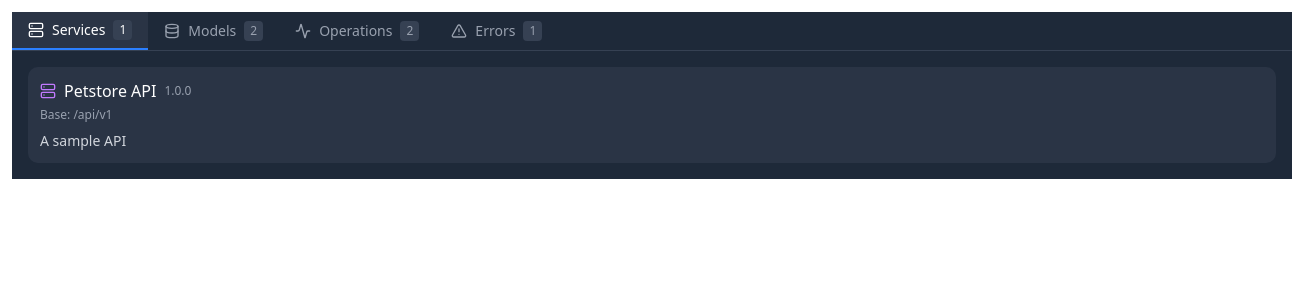
PreviewPane › Operations Display › should display operation methods and paths
// Click Operations tab
Step 1. Click the tab "Operations 2" → (357, 31), box [279,12,435,50]
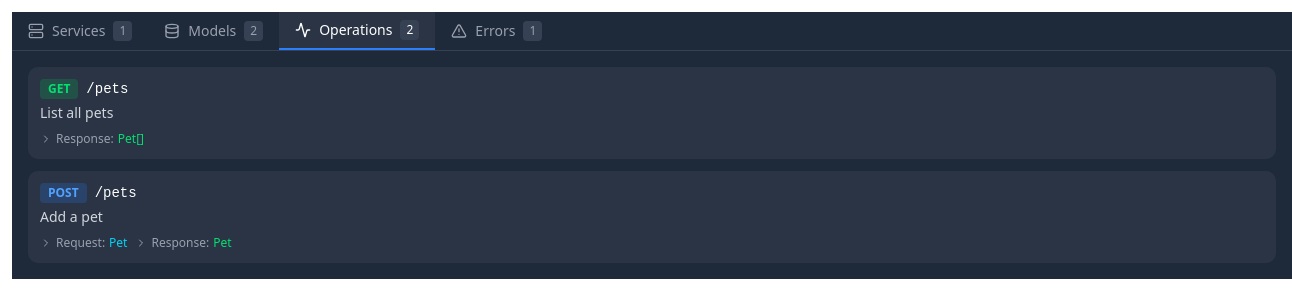
Expected: the text "GET" is shown, [40,79,78,99]
